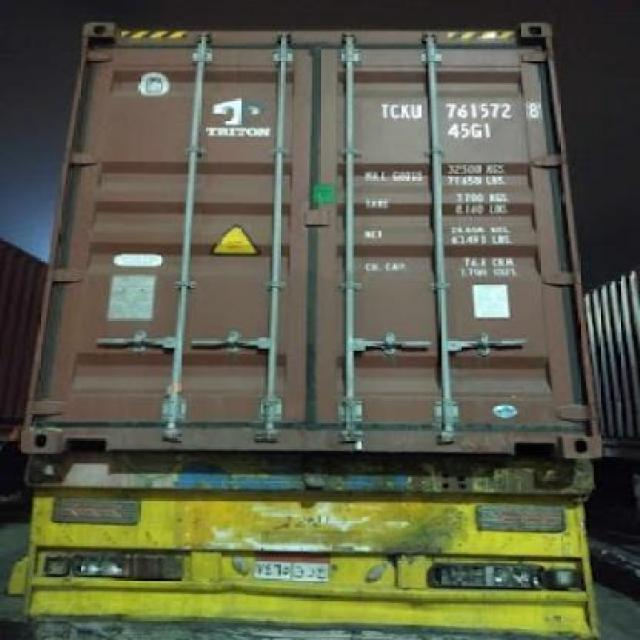ISO: (448, 122, 493, 140)
container_number: (384, 99, 542, 120)
